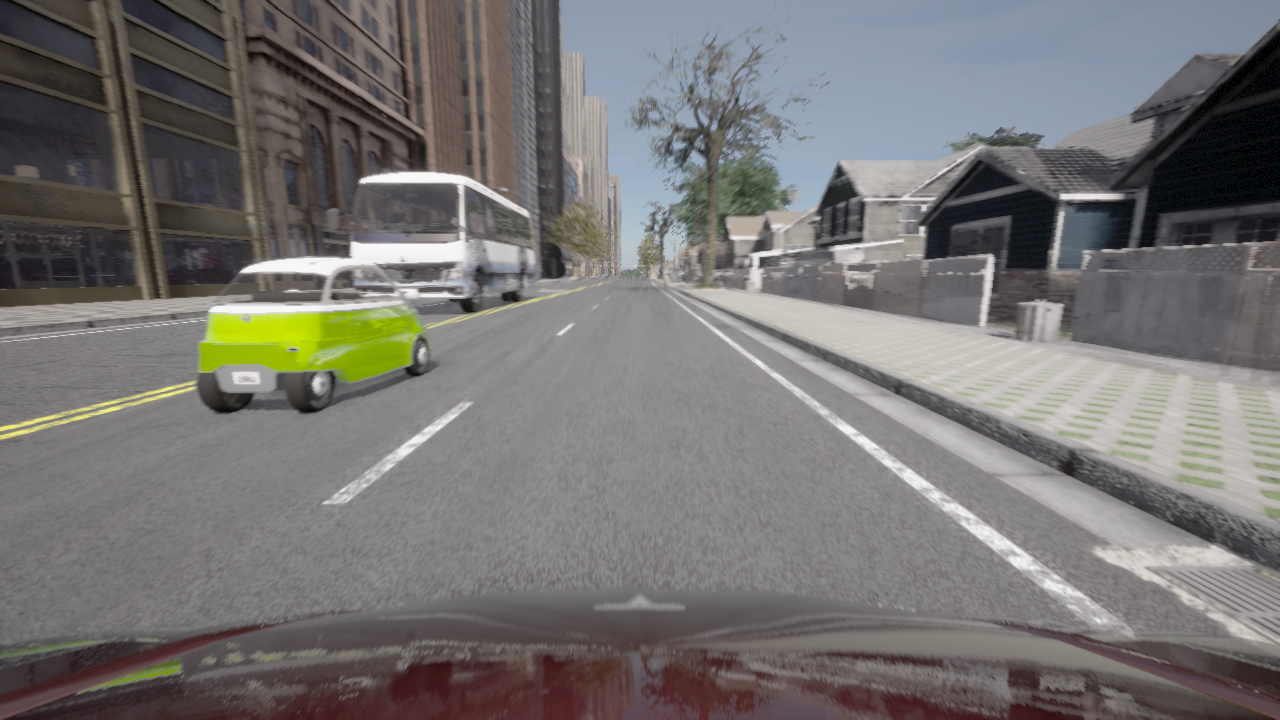cyclist: (0, 588, 1279, 719), (197, 257, 431, 412), (329, 172, 536, 312)
